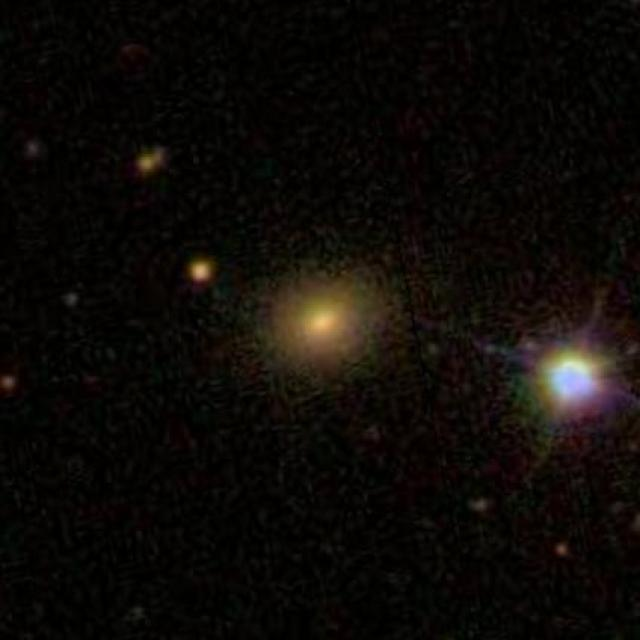galaxy: (242, 245, 407, 411), (186, 258, 216, 289), (139, 146, 168, 178), (549, 537, 572, 561), (471, 492, 492, 515), (62, 291, 84, 312), (24, 140, 44, 160), (1, 375, 23, 393)
star: (420, 272, 640, 494)
